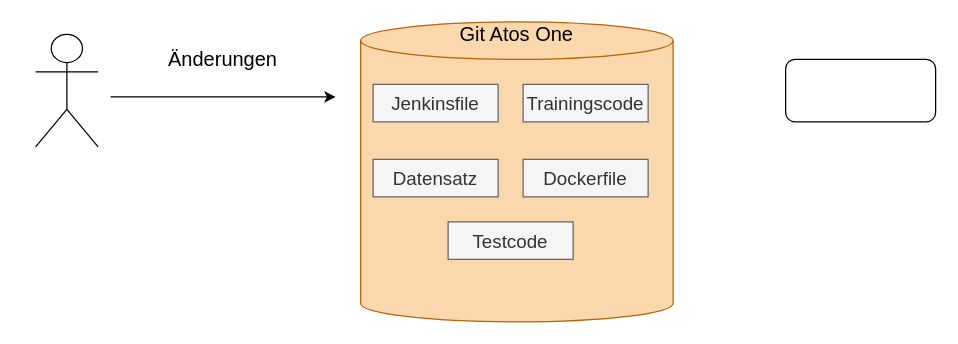
This 958x344 diagram has some shape labels left out. The shapes that lost their labels are listed below. From the top down, each one's centre as x and y in pixels, then its label:
(66,90): Entwickler
(860,90): Jenkins
